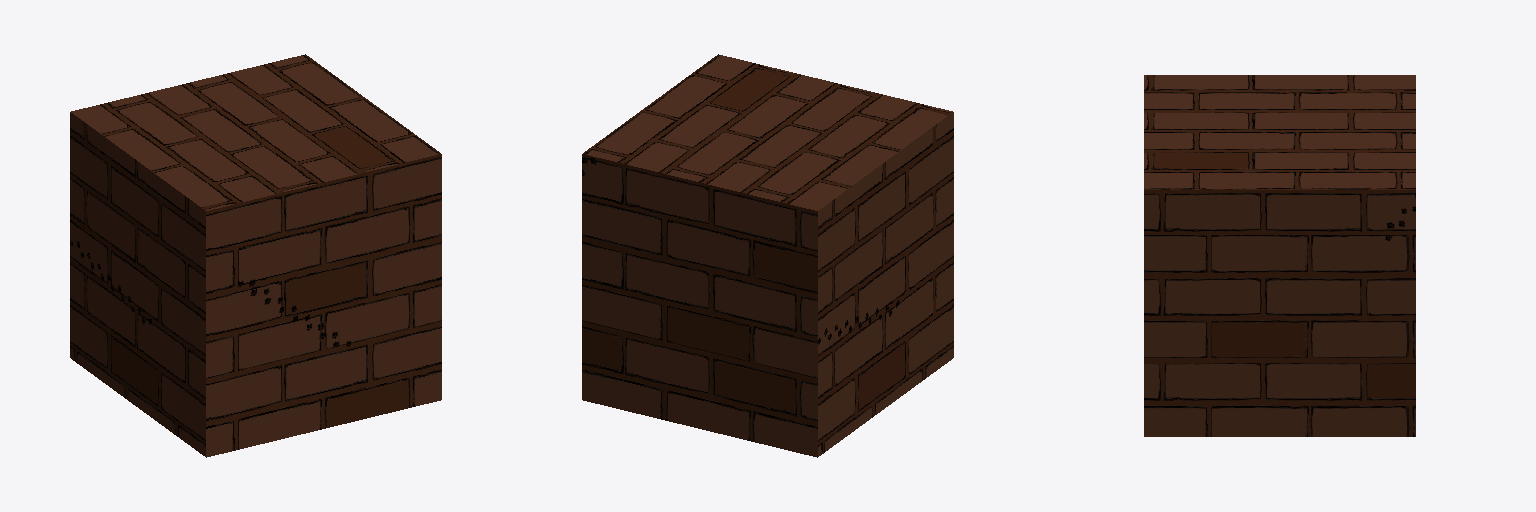
3 renders of one model, left to right at view 1: azimuth 30°, elevation 25°; view 2: azimuth 150°, elevation 25°; view 3: azimuth 270°, elevation 25°, orthographic.
Visible parts, largest first — view 1: Cube; view 2: Cube; view 3: Cube.
Part boxes in pixels (x1,y1,x2,y2): Cube: (70,54,441,457); Cube: (582,54,953,457); Cube: (1144,75,1415,436).
Size of the model in its own units: 1 by 1 by 1.
Materials: 1 (1 with a texture image).